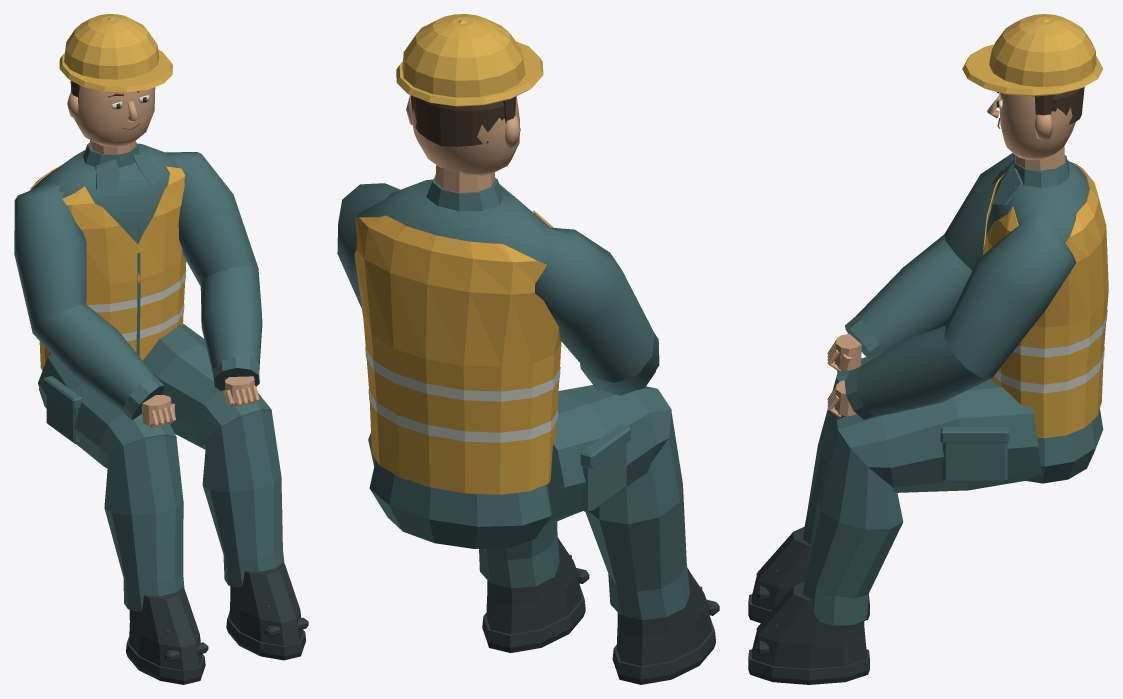
File: driver.glb
The picture shows the model from 3 angles, left to right: view 1: azimuth 30°, elevation 25°; view 2: azimuth 150°, elevation 25°; view 3: azimuth 270°, elevation 25°; orthographic projection. The views are drawn at different scales.
Visible parts, largest first — view 1: continuous_tailored_vest, folded_work_trouser_calf_L, folded_work_trouser_calf_R, continuous_shoulder_and_sleeve_L, continuous_shoulder_and_sleeve_R, tapered_forearm_L, full_work_trouser_thigh_R, tapered_forearm_R, shaped_shirt_torso, hardhat_full_dome, full_work_trouser_thigh_L, boot_upper (+16 smaller); view 2: continuous_tailored_vest, folded_work_trouser_calf_L, continuous_shoulder_and_sleeve_L, joined_trouser_hips, full_work_trouser_thigh_L, hardhat_full_dome, shaped_shirt_torso, boot_upper, boot_upper.001, folded_work_trouser_calf_R, fitted_hair_nape, warm_sculpted_head (+11 smaller); view 3: continuous_tailored_vest, folded_work_trouser_calf_R, full_work_trouser_thigh_R, continuous_shoulder_and_sleeve_R, tapered_forearm_L, tapered_forearm_R, hardhat_full_dome, boot_upper.001, shaped_shirt_torso, warm_sculpted_head, continuous_shoulder_and_sleeve_L, joined_trouser_hips (+15 smaller).
Part boxes in pixels (x1=…): continuous_tailored_vest: x1=29, y1=166, x2=186, y2=370; folded_work_trouser_calf_L: x1=104, y1=435, x2=184, y2=611; folded_work_trouser_calf_R: x1=202, y1=410, x2=284, y2=587; continuous_shoulder_and_sleeve_L: x1=14, y1=180, x2=86, y2=332; continuous_shoulder_and_sleeve_R: x1=165, y1=152, x2=258, y2=286; tapered_forearm_L: x1=32, y1=304, x2=163, y2=419; full_work_trouser_thigh_R: x1=143, y1=323, x2=271, y2=449; tapered_forearm_R: x1=200, y1=266, x2=262, y2=390; shaped_shirt_torso: x1=31, y1=143, x2=178, y2=243; hardhat_full_dome: x1=64, y1=14, x2=159, y2=79; full_work_trouser_thigh_L: x1=38, y1=354, x2=176, y2=468; boot_upper: x1=129, y1=587, x2=202, y2=670; continuous_tailored_vest: x1=354, y1=210, x2=561, y2=494; folded_work_trouser_calf_L: x1=585, y1=413, x2=689, y2=619; continuous_shoulder_and_sleeve_L: x1=535, y1=225, x2=654, y2=382; joined_trouser_hips: x1=369, y1=460, x2=551, y2=548; full_work_trouser_thigh_L: x1=543, y1=385, x2=671, y2=527; hardhat_full_dome: x1=402, y1=14, x2=525, y2=97; shaped_shirt_torso: x1=358, y1=179, x2=549, y2=263; boot_upper: x1=616, y1=568, x2=711, y2=666; boot_upper.001: x1=486, y1=538, x2=581, y2=634; folded_work_trouser_calf_R: x1=479, y1=522, x2=559, y2=588; fitted_hair_nape: x1=410, y1=95, x2=504, y2=146; warm_sculpted_head: x1=410, y1=96, x2=519, y2=175; continuous_tailored_vest: x1=983, y1=162, x2=1108, y2=438; folded_work_trouser_calf_R: x1=803, y1=424, x2=903, y2=625; full_work_trouser_thigh_R: x1=836, y1=379, x2=1041, y2=492; continuous_shoulder_and_sleeve_R: x1=944, y1=213, x2=1076, y2=378; tapered_forearm_L: x1=856, y1=234, x2=972, y2=360; tapered_forearm_R: x1=856, y1=326, x2=991, y2=416; hardhat_full_dome: x1=989, y1=14, x2=1096, y2=86; boot_upper.001: x1=752, y1=581, x2=866, y2=668; shaped_shirt_torso: x1=986, y1=160, x2=1089, y2=241; warm_sculpted_head: x1=1000, y1=93, x2=1075, y2=160; continuous_shoulder_and_sleeve_L: x1=944, y1=153, x2=1015, y2=270; joined_trouser_hips: x1=1026, y1=409, x2=1103, y2=483.
Bounding box in the file's own units: 0.5761 × 1.37 × 0.7207.
